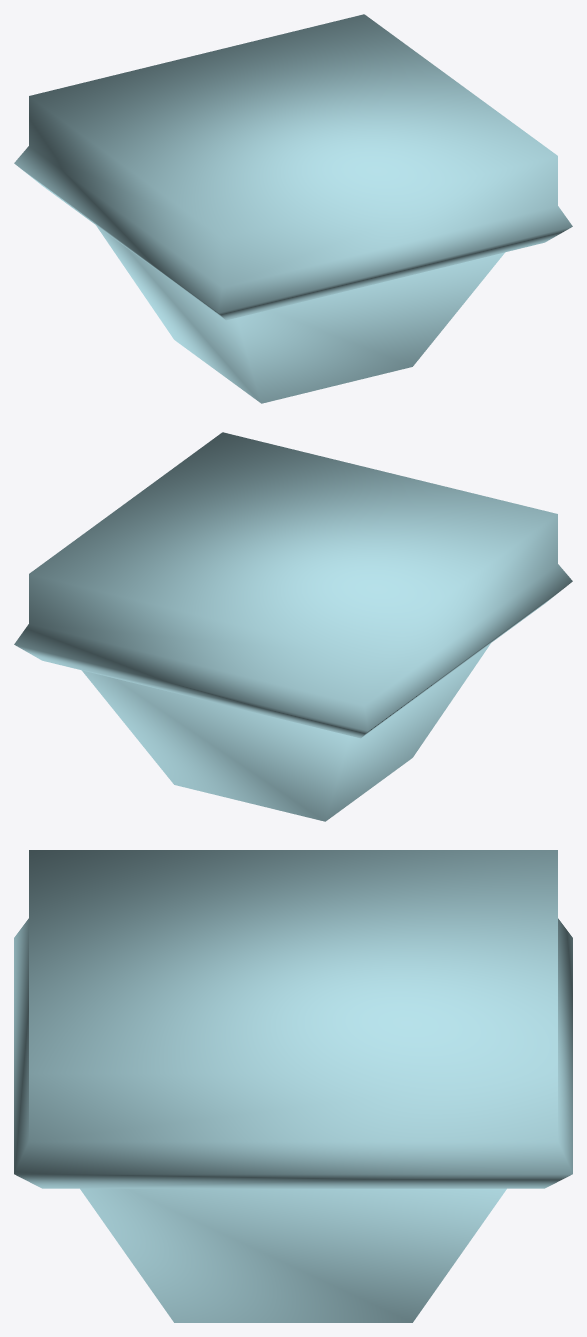
3 renders of one model, top to bottom at view 1: azimuth 30°, elevation 25°; view 2: azimuth 150°, elevation 25°; view 3: azimuth 270°, elevation 25°, orthographic. The views are drawn at different scales.
Visible parts, largest first — view 1: Cube; view 2: Cube; view 3: Cube.
Part boxes in pixels (x1,y1,x2,y2): Cube: [14, 14, 572, 403]; Cube: [14, 432, 572, 821]; Cube: [14, 850, 572, 1322].
Bounding box in the file's own units: 4.69 × 2.87 × 4.69.
